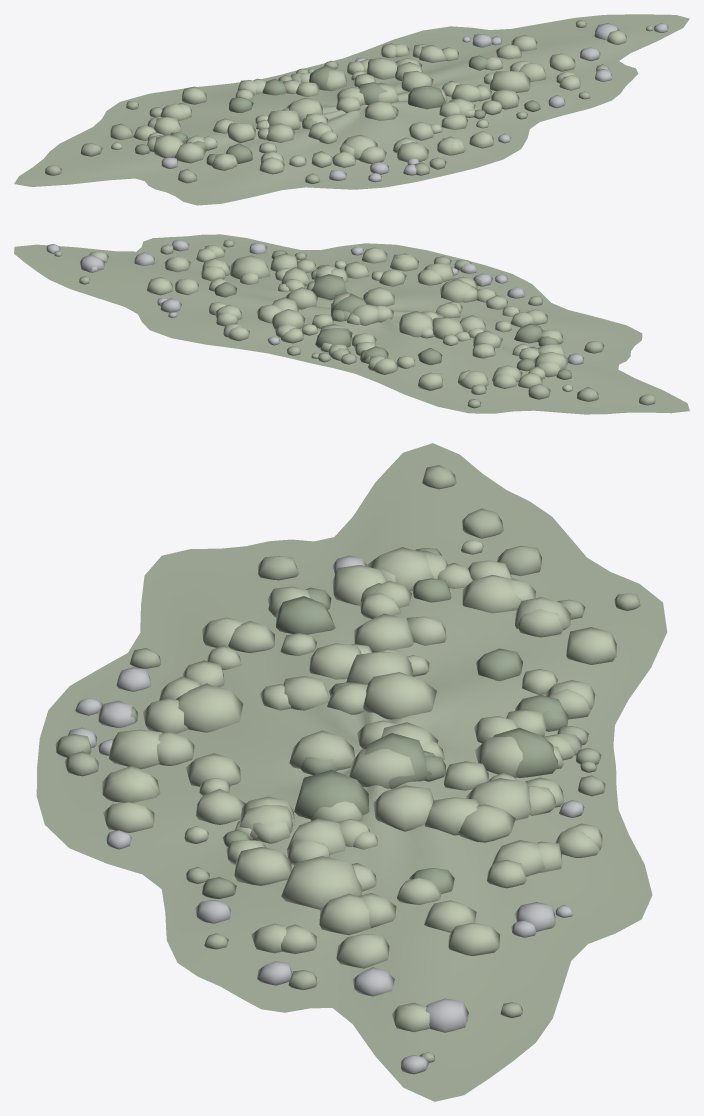
File: SM_MR_Carbon_Accretion_02.fbx
3 renders of one model, top to bottom at view 1: azimuth 30°, elevation 25°; view 2: azimuth 150°, elevation 25°; view 3: azimuth 270°, elevation 25°, orthographic. The views are drawn at different scales.
Visible parts, largest first — view 1: SM_MR_Carbon_Accretion_02; view 2: SM_MR_Carbon_Accretion_02; view 3: SM_MR_Carbon_Accretion_02.
Part boxes in pixels (x1=…): SM_MR_Carbon_Accretion_02: x1=14, y1=14, x2=689, y2=205; SM_MR_Carbon_Accretion_02: x1=14, y1=234, x2=689, y2=414; SM_MR_Carbon_Accretion_02: x1=36, y1=443, x2=667, y2=1101.
Size of the model in its own units: 1.72 by 0.697 by 0.0668.
